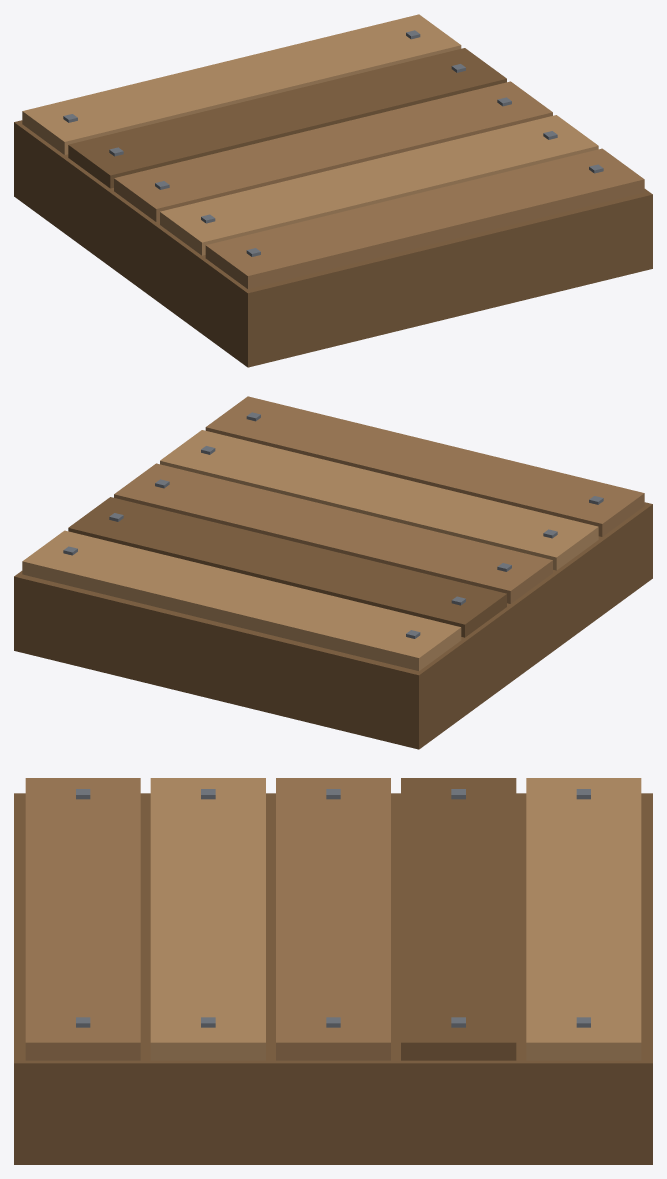
The model's file is tile_wood.glb.
3 views of the same model, one above another, from view 1: azimuth 30°, elevation 25°; view 2: azimuth 150°, elevation 25°; view 3: azimuth 270°, elevation 25° (orthographic). The views are drawn at different scales.
Visible parts, largest first — view 1: TileWood; view 2: TileWood; view 3: TileWood.
Boxes of the visible parts, <box> form: TileWood: <box>14,14,652,367</box>; TileWood: <box>14,396,652,749</box>; TileWood: <box>14,778,652,1164</box>.
Bounding box in the file's own units: 0.97 × 0.207 × 0.97.
